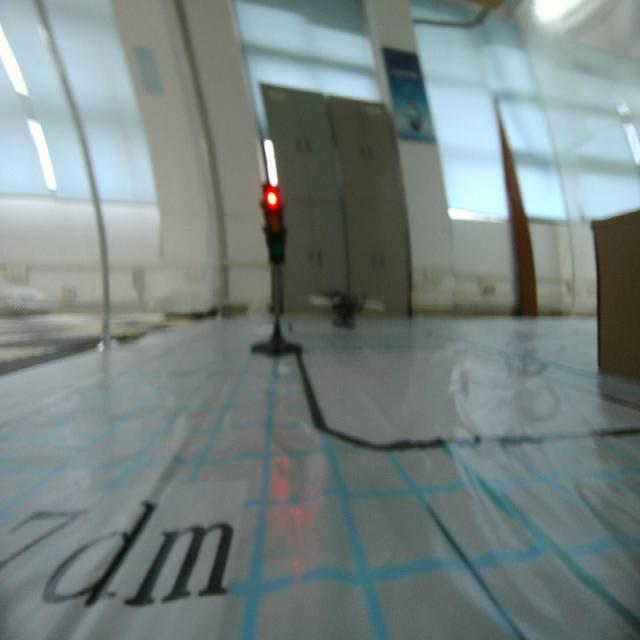red: (258, 182, 289, 270)
